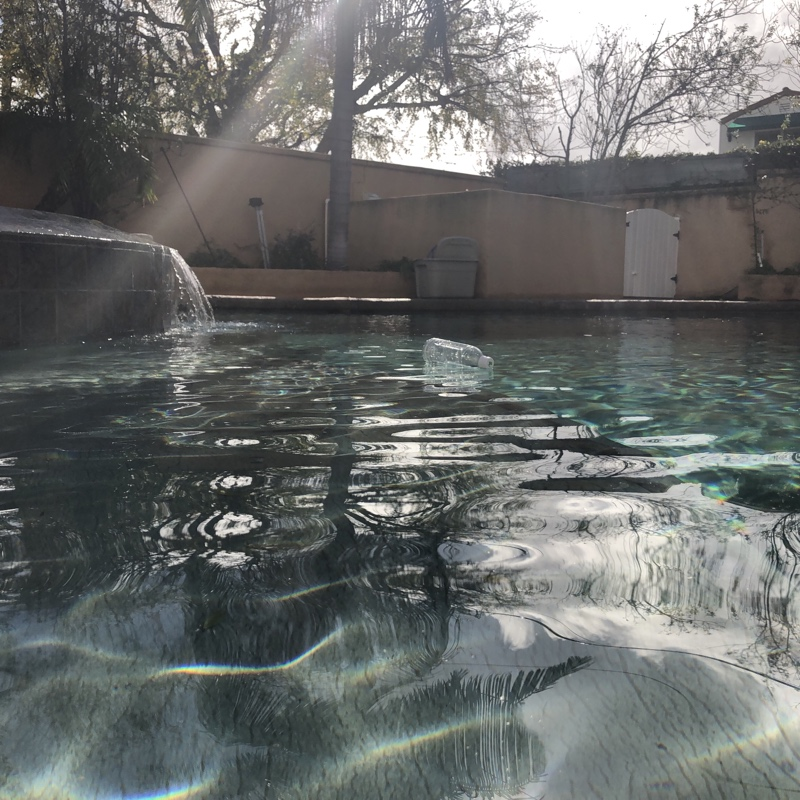Plastic Bottle: (422, 333, 496, 377)
